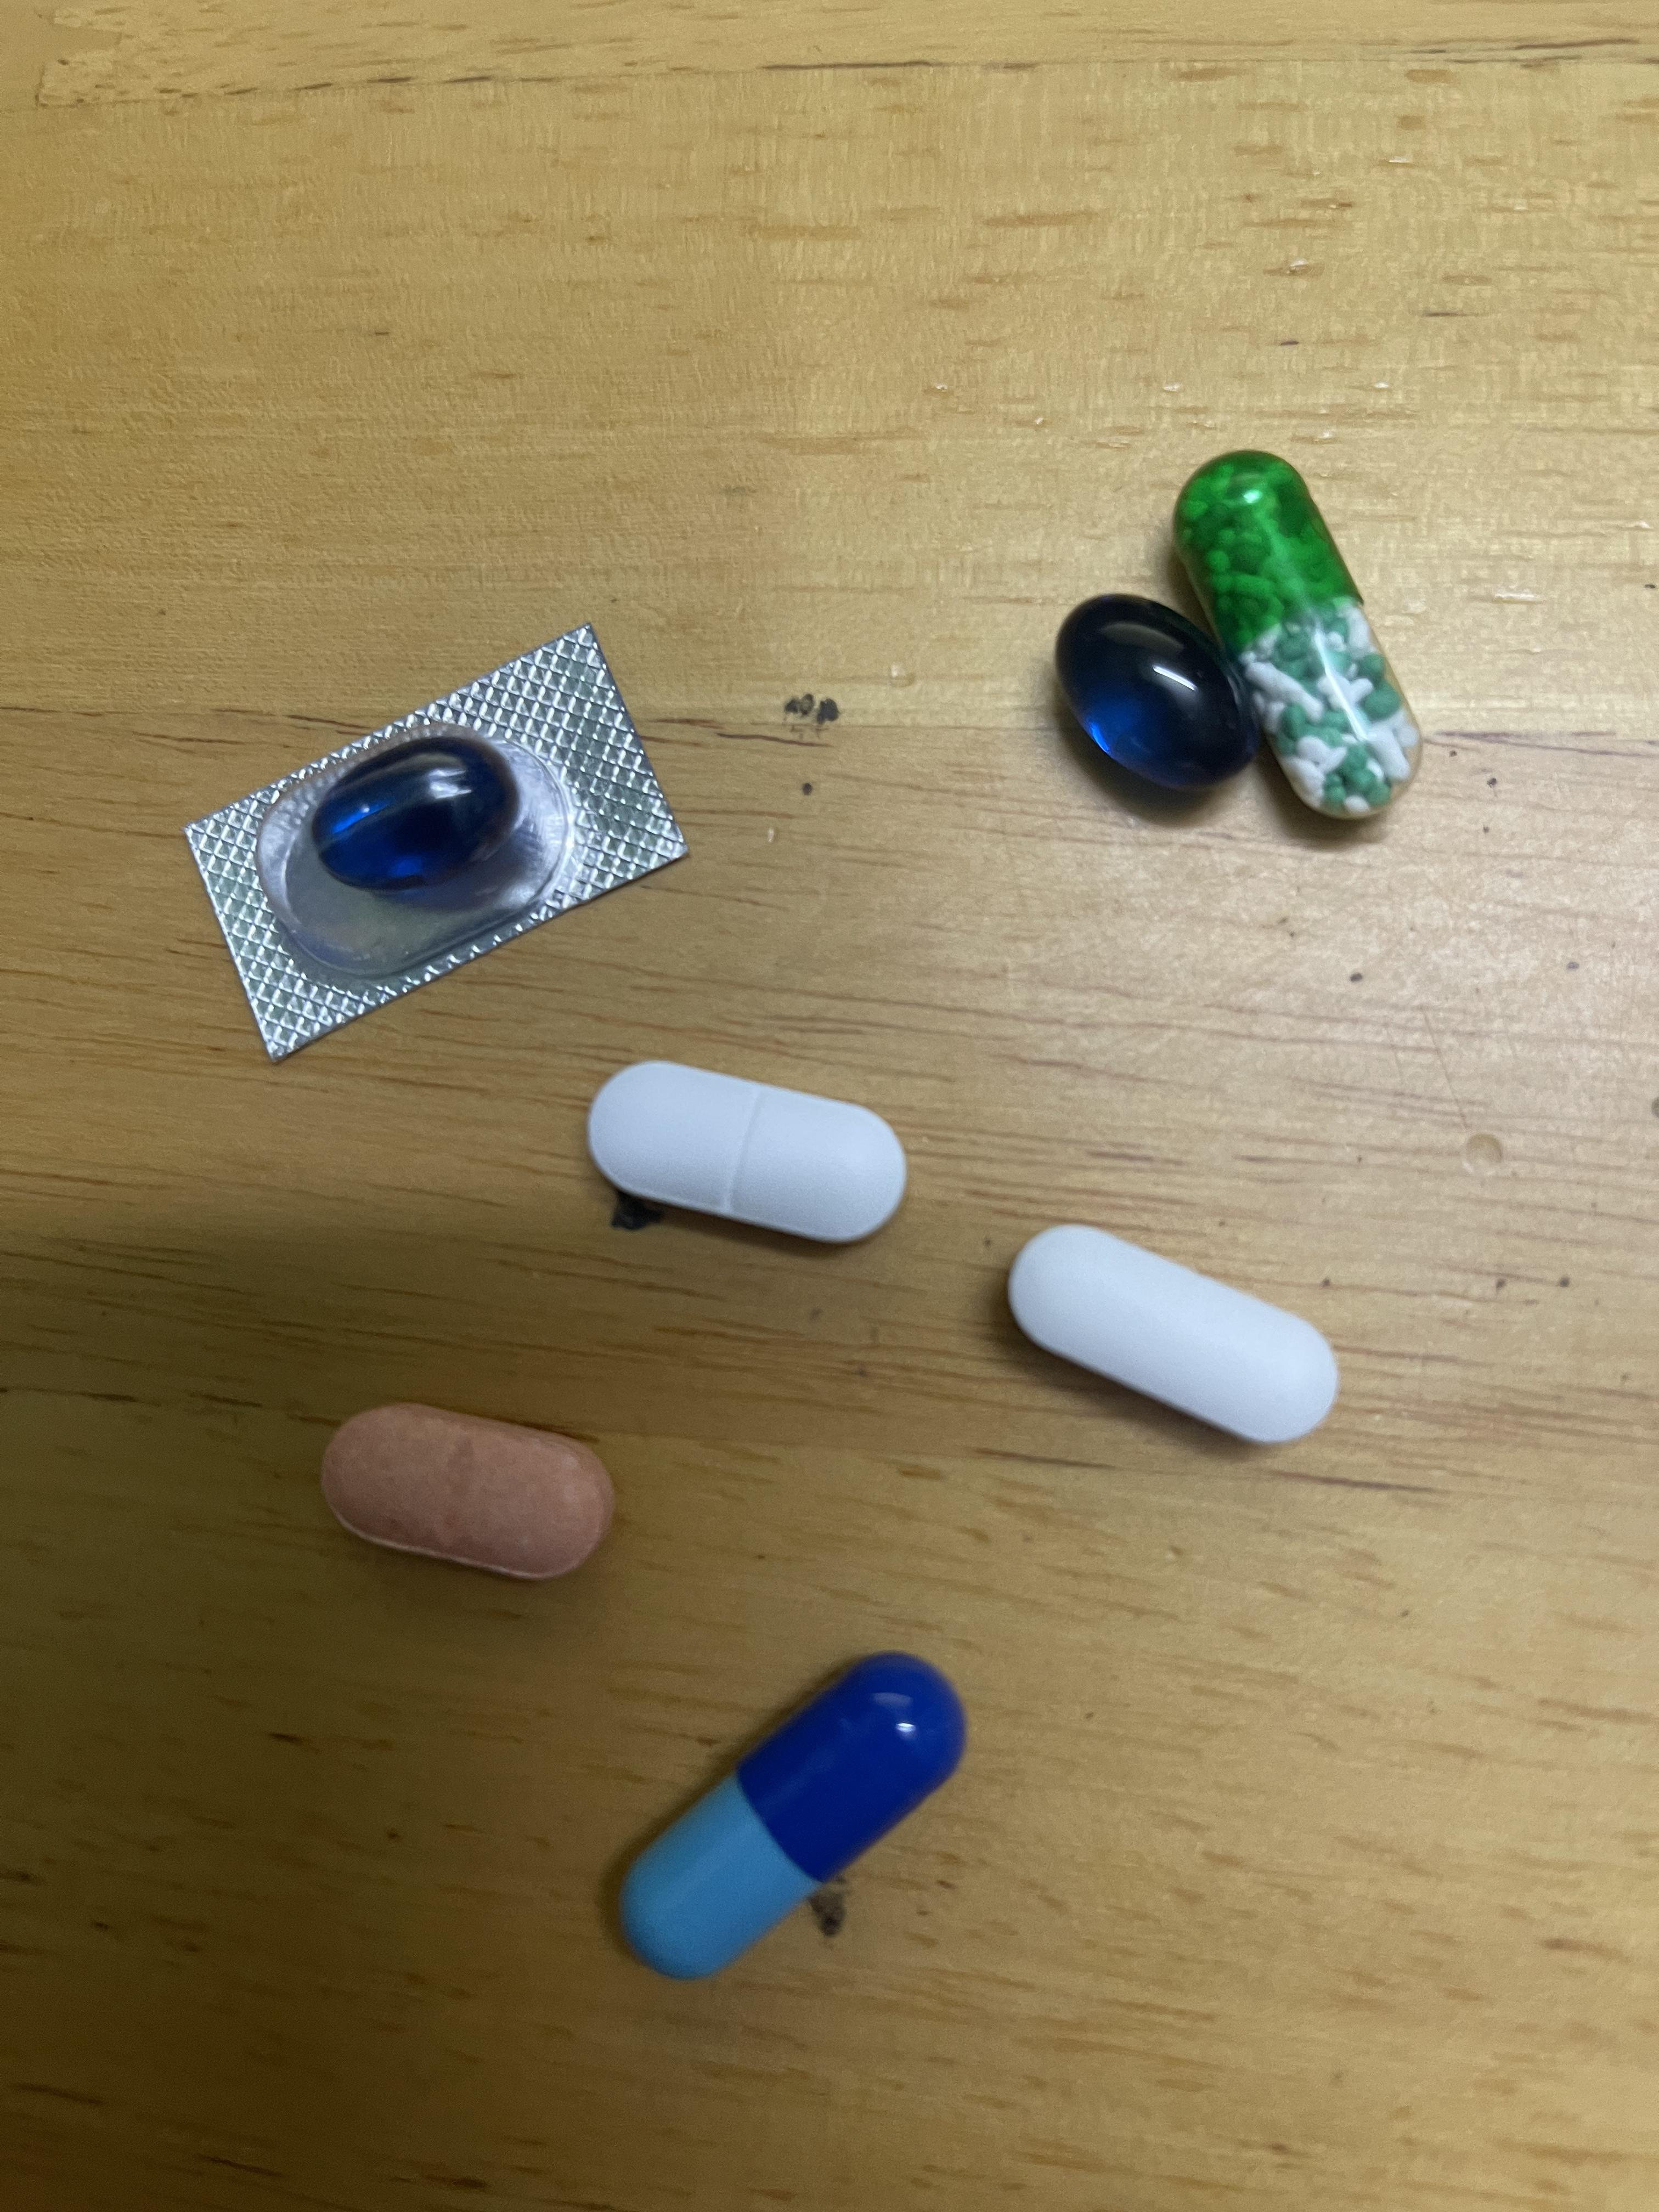Lincomyxin_500mg: (1053, 594, 1256, 794), (307, 738, 518, 895)
Loratadine_10mg: (321, 1400, 613, 1575)
Paracetamol_350mg: (592, 1055, 899, 1242)
Paracetamol_500mg: (1011, 1217, 1331, 1440)
Paracetamol_650mg: (1180, 456, 1417, 820)
pill: (612, 1648, 955, 1996)
